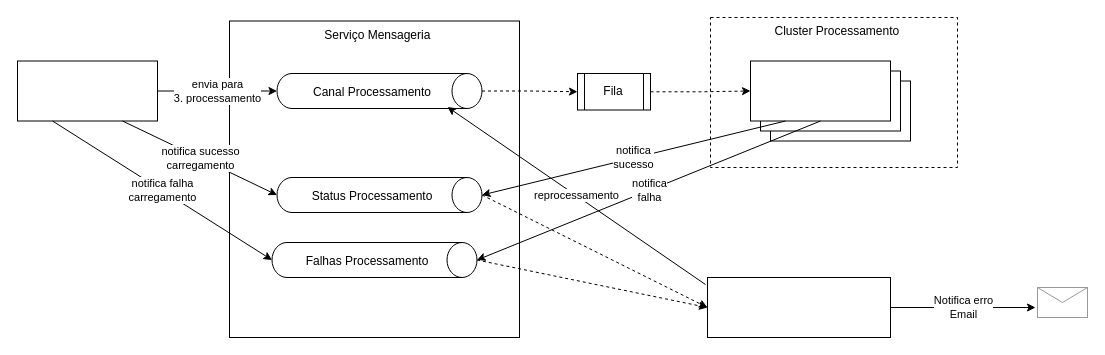
Image size: 1105x355. Some labels were removed from this diagram. Here are the shapes that lost their labels. From the top down, the centre of each, then its label:
At pixel 87 90: "[Serviço Importação] 1. Carrega Vídeo 2. Valida Configurações".
At pixel 820 90: "[Serviço Processamento] 4. Processa Vídeo 5. Processa Zip 6. Gera URL Download".
At pixel 798 307: "[Serviço Status] - Lista Status Vídeos - Comanda reprocessamento".
